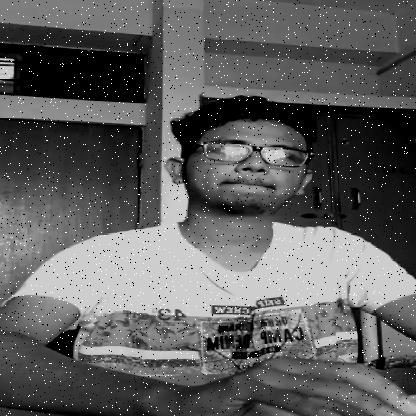Normal: (162, 102, 322, 217)
